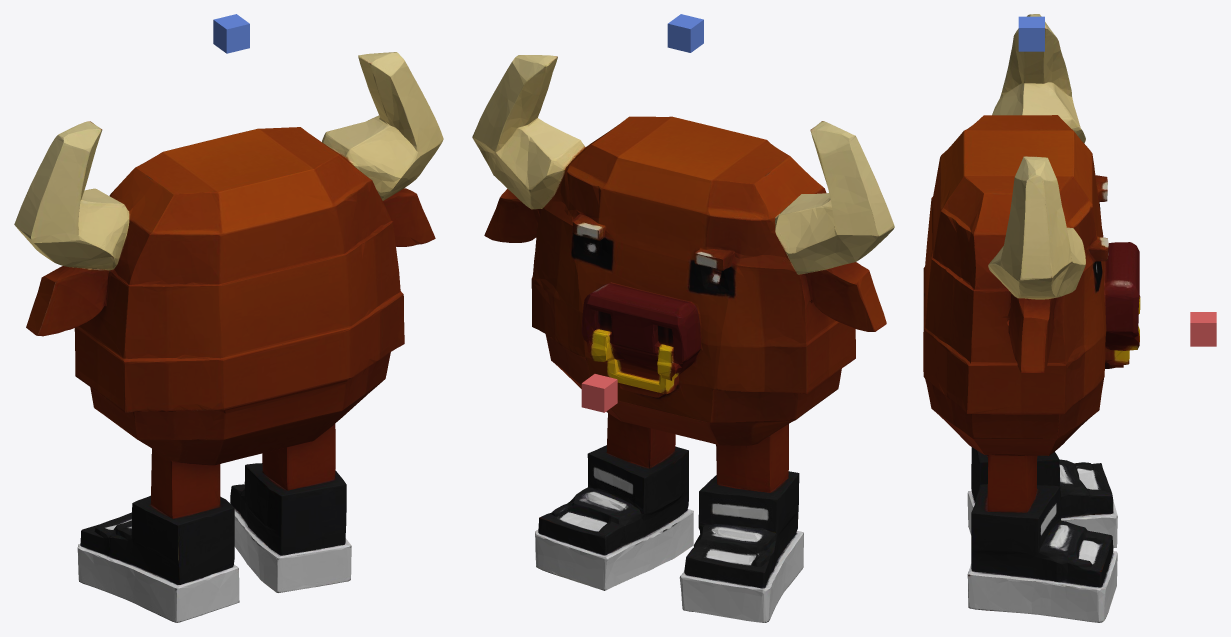
The model's file is ToroPalloncino.glb.
3 renders of one model, left to right at view 1: azimuth 30°, elevation 25°; view 2: azimuth 150°, elevation 25°; view 3: azimuth 270°, elevation 25°, orthographic. The views are drawn at different scales.
Parts seen in each view (by area): view 1: ToroPalloncino_Body, ToroPalloncino_Leg2, ToroPalloncino_Leg1, ToroPalloncino_Top; view 2: ToroPalloncino_Body, ToroPalloncino_Leg1, ToroPalloncino_Leg2, ToroPalloncino_Front, ToroPalloncino_Top; view 3: ToroPalloncino_Body, ToroPalloncino_Leg1, ToroPalloncino_Leg2, ToroPalloncino_Top, ToroPalloncino_Front.
Boxes of the visible parts, left/top/right/bottom form: ToroPalloncino_Body: left=14, top=52, right=443, bottom=480; ToroPalloncino_Leg2: left=77, top=451, right=239, bottom=622; ToroPalloncino_Leg1: left=229, top=427, right=351, bottom=592; ToroPalloncino_Top: left=213, top=14, right=249, bottom=53; ToroPalloncino_Body: left=472, top=55, right=894, bottom=503; ToroPalloncino_Leg1: left=535, top=413, right=693, bottom=590; ToroPalloncino_Leg2: left=679, top=436, right=803, bottom=622; ToroPalloncino_Front: left=581, top=374, right=617, bottom=412; ToroPalloncino_Top: left=667, top=14, right=703, bottom=52; ToroPalloncino_Body: left=923, top=14, right=1140, bottom=595; ToroPalloncino_Leg1: left=967, top=455, right=1117, bottom=622; ToroPalloncino_Leg2: left=967, top=447, right=1117, bottom=548; ToroPalloncino_Top: left=1018, top=16, right=1044, bottom=51; ToroPalloncino_Front: left=1190, top=312, right=1216, bottom=346.
Size of the model in its own units: 4.45 by 5.72 by 2.79.
Materials: 1 (1 with a texture image).
